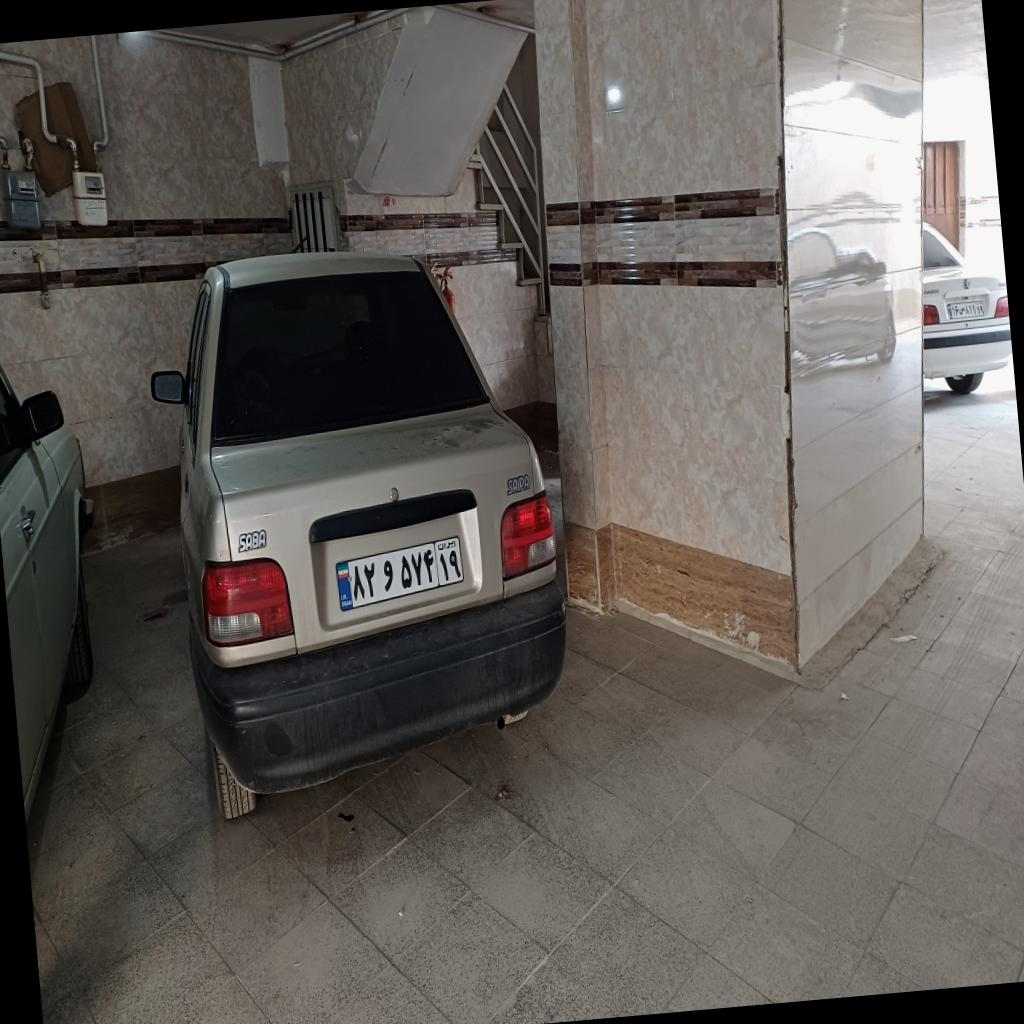Plates: (330, 530, 467, 612)
